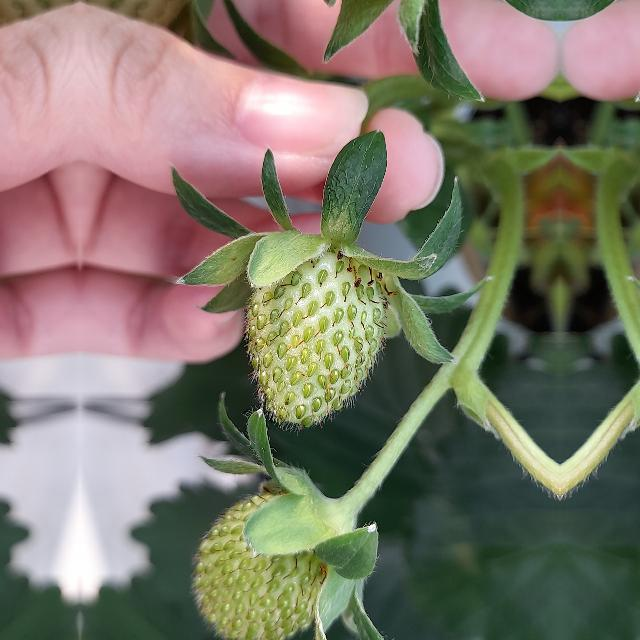Health_25: (240, 251, 390, 429), (192, 491, 352, 639)
